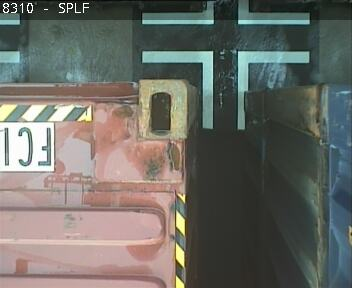groundmarker_1: (142, 51, 311, 128)
